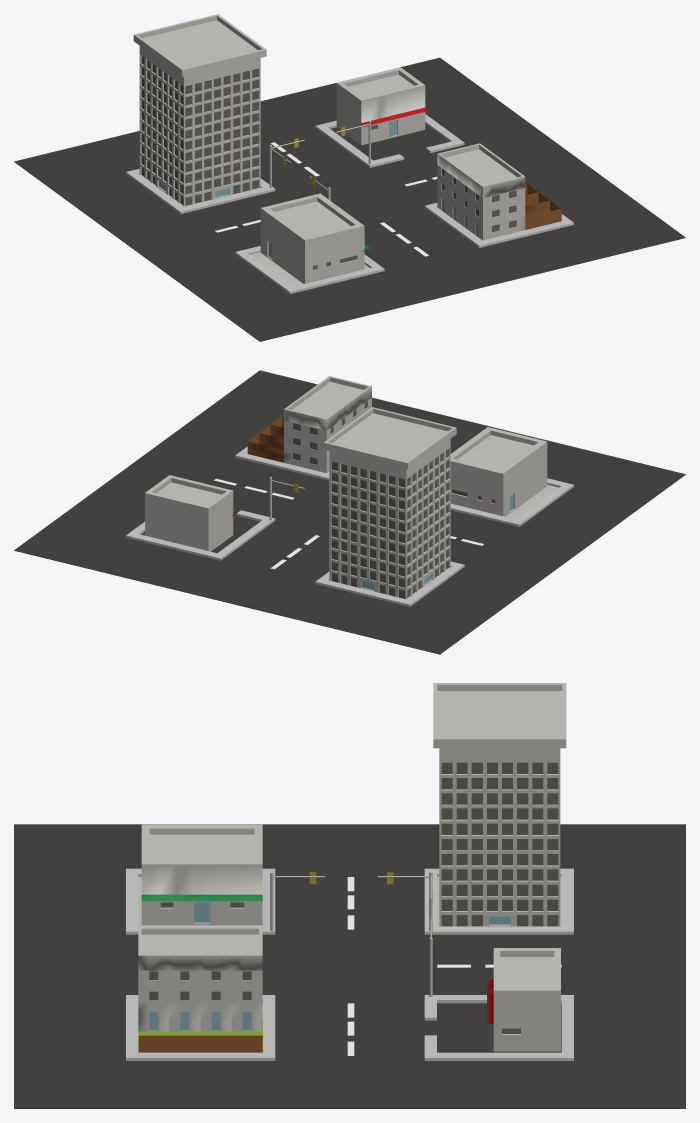
The model's file is city.fbx.
3 views of the same model, one above another, from view 1: azimuth 30°, elevation 25°; view 2: azimuth 150°, elevation 25°; view 3: azimuth 270°, elevation 25° (orthographic). The views are drawn at different scales.
Visible parts, largest first — view 1: Cube; view 2: Cube; view 3: Cube.
Part boxes in pixels (x1,y1,x2,y2): Cube: [14, 14, 685, 341]; Cube: [14, 370, 685, 654]; Cube: [14, 683, 685, 1108].
Bounding box in the file's own units: 2000 × 632 × 2000.
